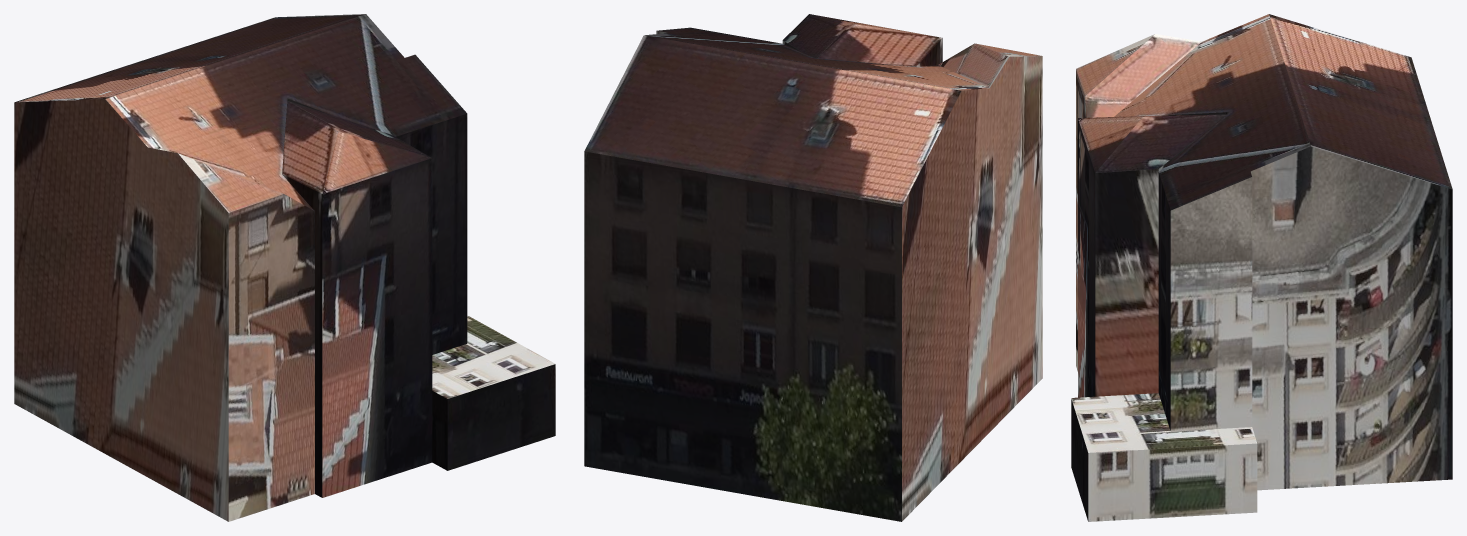
3 renders of one model, left to right at view 1: azimuth 30°, elevation 25°; view 2: azimuth 150°, elevation 25°; view 3: azimuth 270°, elevation 25°, orthographic. The views are drawn at different scales.
Visible parts, largest first — view 1: Z_UP; view 2: Z_UP; view 3: Z_UP.
Boxes of the visible parts, x1,y1,x2,y2 form: Z_UP: (14, 14, 555, 521); Z_UP: (584, 14, 1042, 521); Z_UP: (1071, 14, 1452, 521).
Bounding box in the file's own units: 17.63 × 16.01 × 16.24.
Materials: 2 (1 with a texture image).
